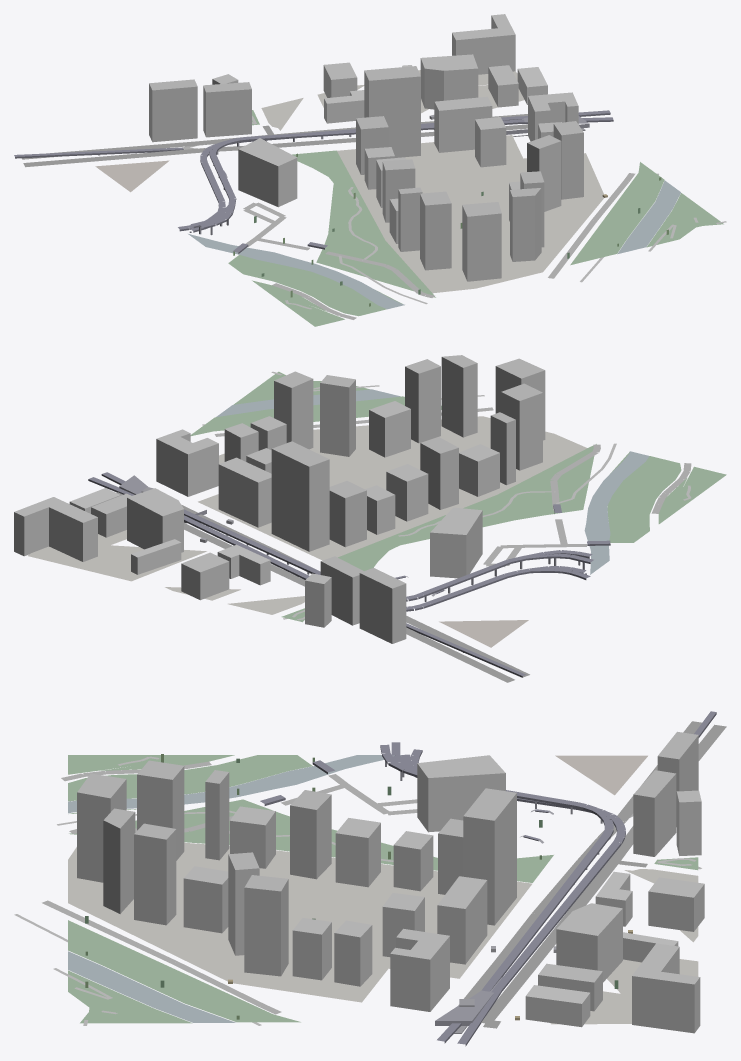
The picture shows the model from 3 angles, top to bottom: view 1: azimuth 30°, elevation 25°; view 2: azimuth 150°, elevation 25°; view 3: azimuth 270°, elevation 25°; orthographic projection. The views are drawn at different scales.
Size of the model in its own units: 606 by 102 by 565.
